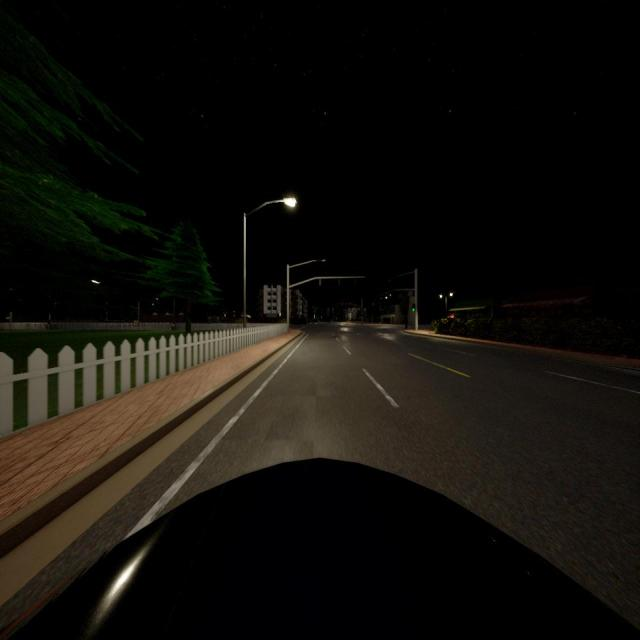Vehicle: (0, 458, 640, 640)
traffic_light: (412, 304, 416, 312), (319, 278, 321, 285), (338, 278, 340, 285), (389, 294, 392, 296)
